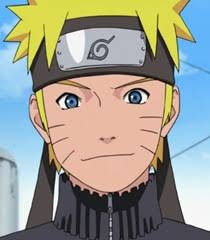naruto: (23, 14, 186, 194)
